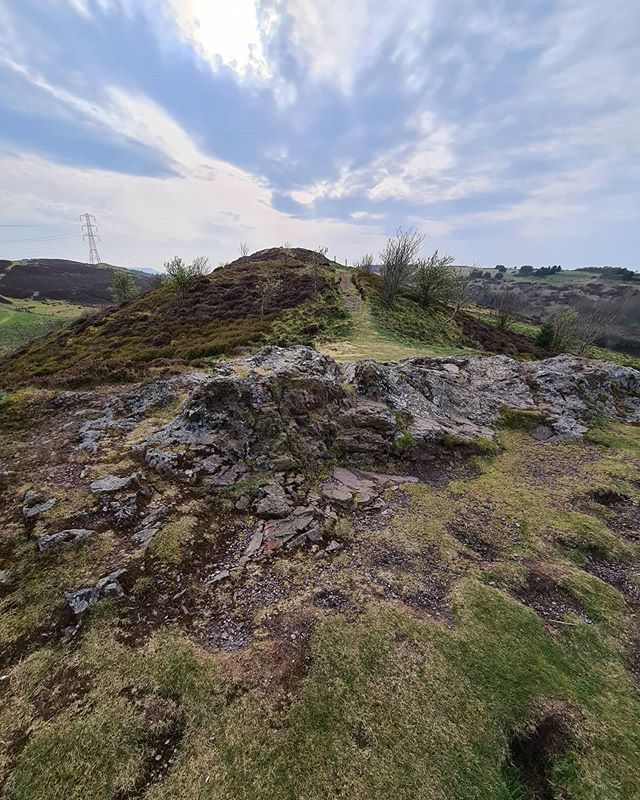grass: (27, 583, 637, 800)
rocks: (116, 323, 634, 532)
sky: (16, 1, 640, 264)
